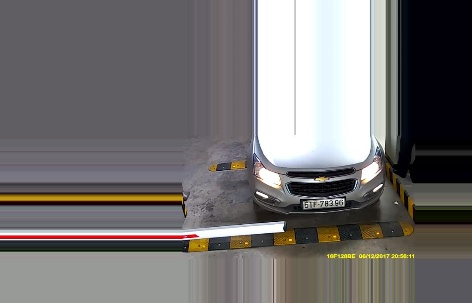plate: (298, 196, 344, 208)
